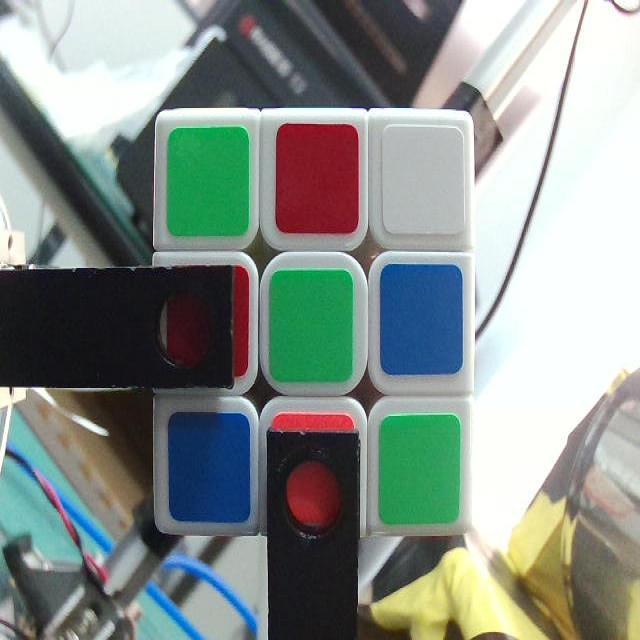b: (383, 268, 462, 375), (169, 412, 247, 520)
g: (272, 273, 354, 383), (171, 127, 248, 232), (381, 419, 459, 520)
o: (274, 419, 355, 533)
r: (277, 125, 356, 235), (172, 264, 247, 377)
w: (384, 128, 460, 237)
